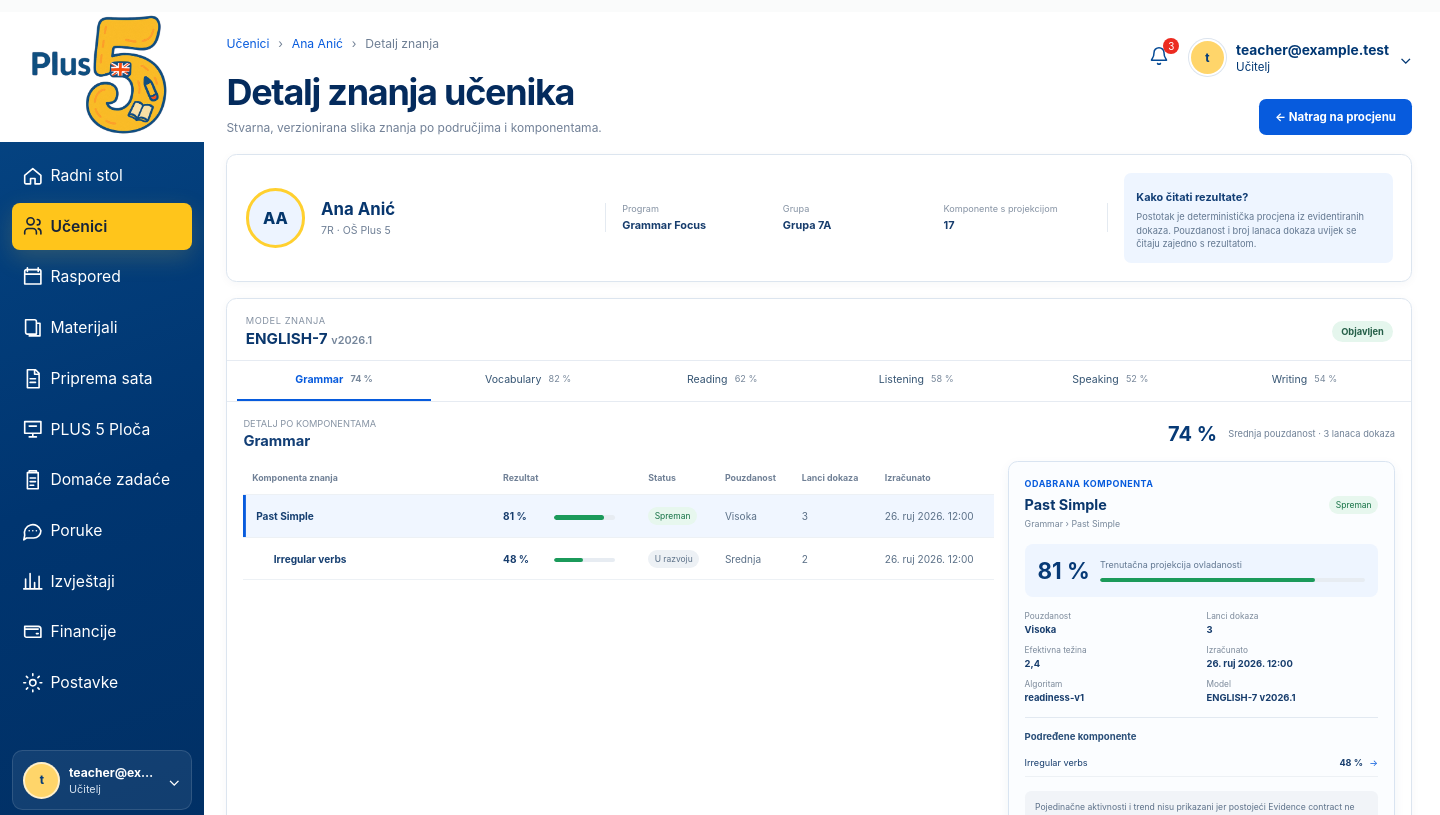
Test: student knowledge detail › uses the model hierarchy for Vocabulary topics and arbitrary-depth drill-down
The image size is (1440, 815).
Expected: the heading "Detalj znanja učenika" is shown, left=226, top=70, right=602, bottom=114
Click the tab "Vocabulary 82 %": (528, 381) left=431, top=361, right=625, bottom=401
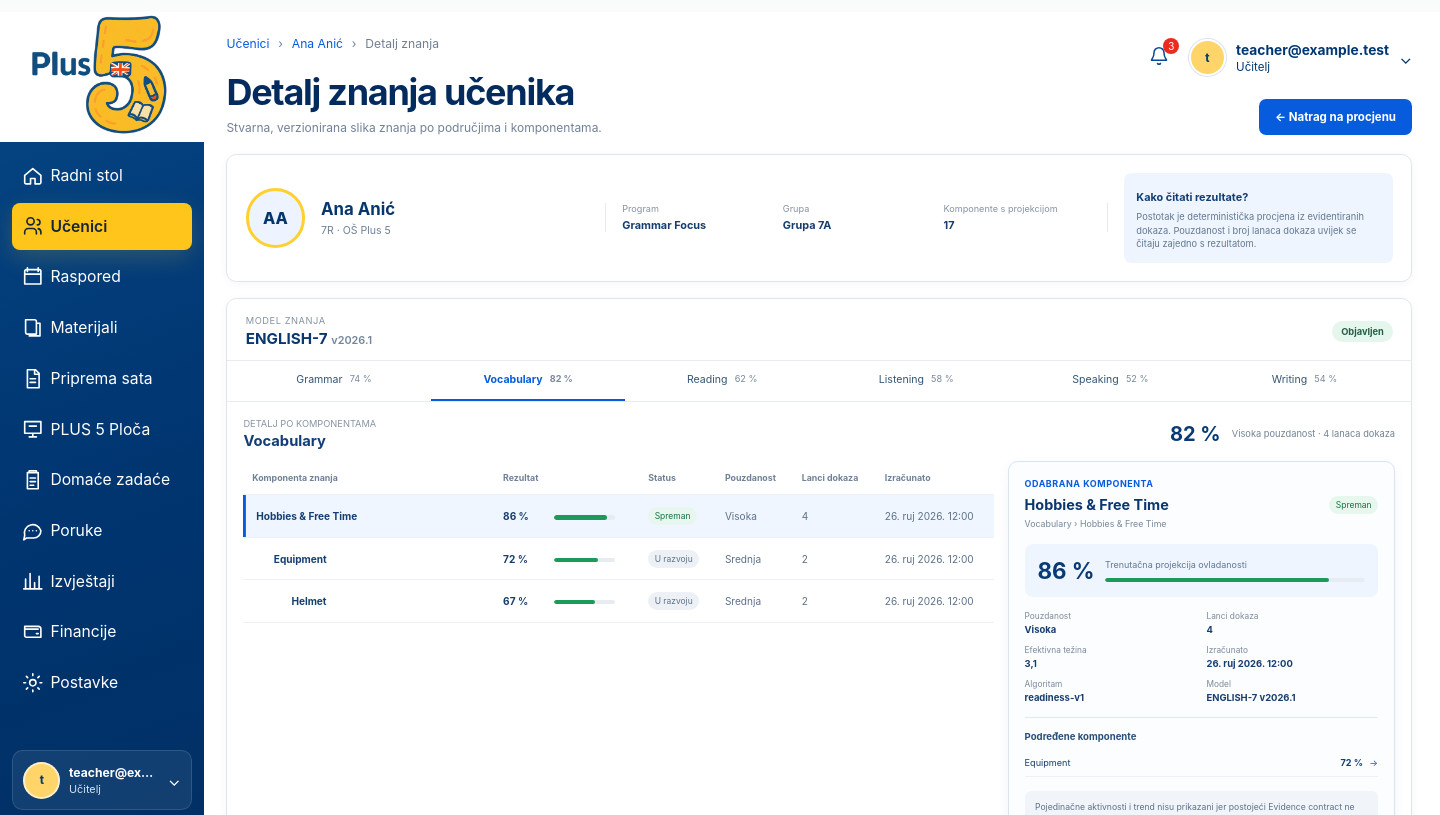
Result: the heading "Hobbies & Free Time" is shown at left=1025, top=496, right=1169, bottom=513
Result: the text "Vocabulary › Hobbies & Free Time" is shown at left=1025, top=518, right=1169, bottom=530
Click the button "Equipment 72 % →": (1048, 763) left=1025, top=749, right=1378, bottom=777
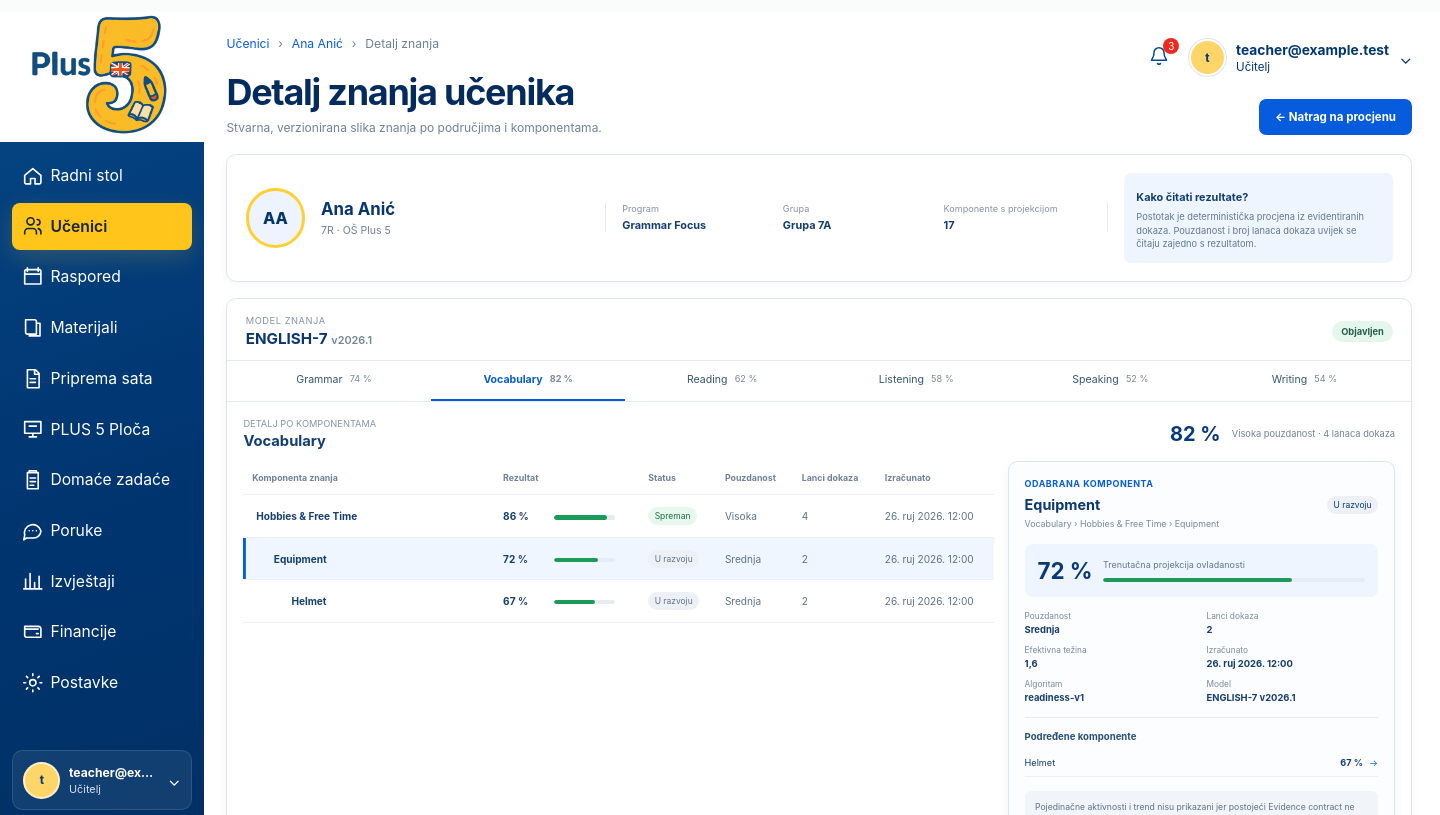
Result: the heading "Equipment" is shown at left=1025, top=496, right=1100, bottom=513
Result: the text "Vocabulary › Hobbies & Free Time › Equipment" is shown at left=1025, top=518, right=1219, bottom=530
Click the button "Helmet 67 % →": (1040, 763) left=1025, top=749, right=1378, bottom=777
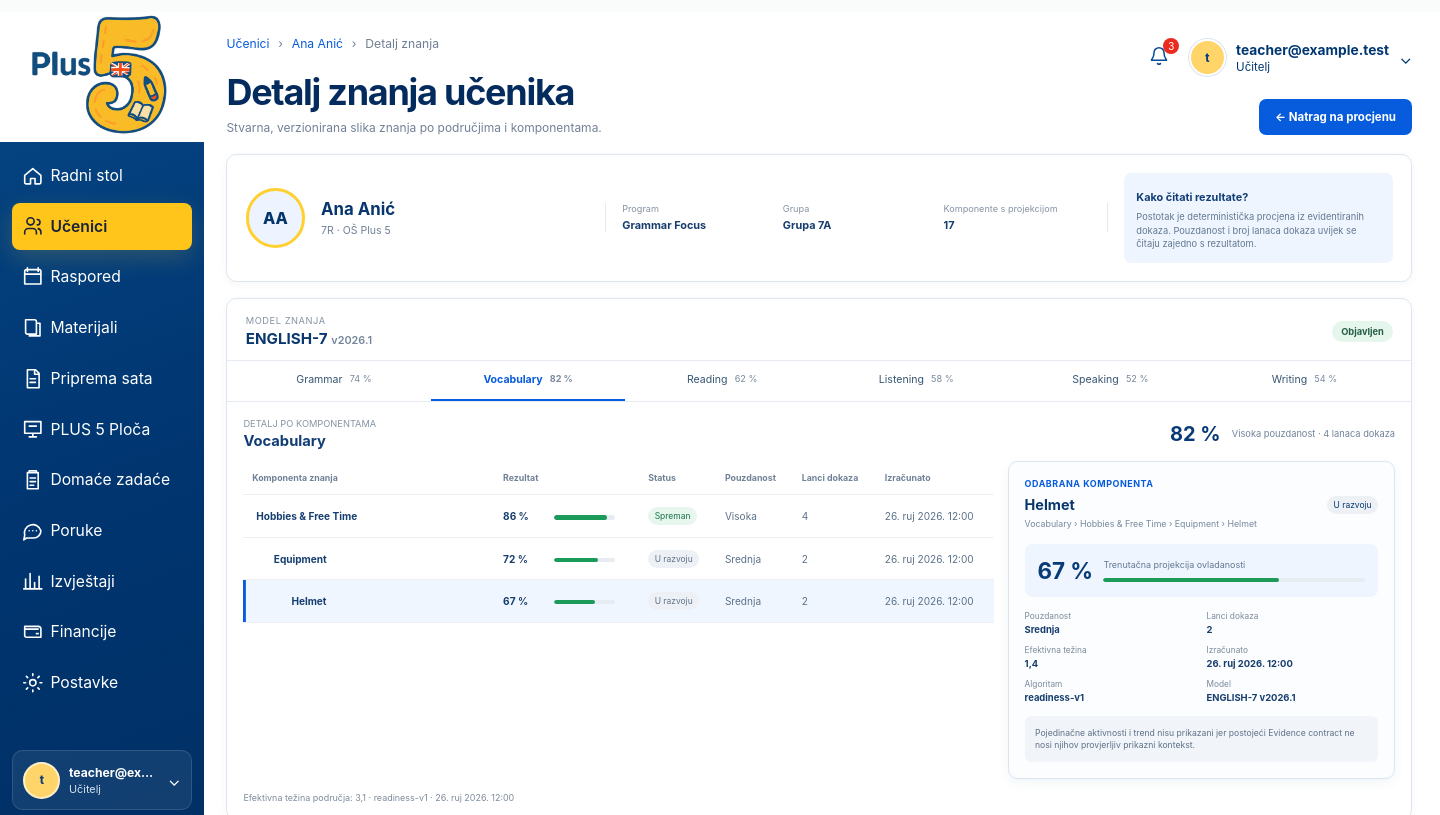
Result: the heading "Helmet" is shown at left=1025, top=496, right=1075, bottom=513
Result: the text "Vocabulary › Hobbies & Free Time › Equipment › Helmet" is shown at left=1025, top=518, right=1257, bottom=530
Result: the heading "Podređene komponente" is gone
